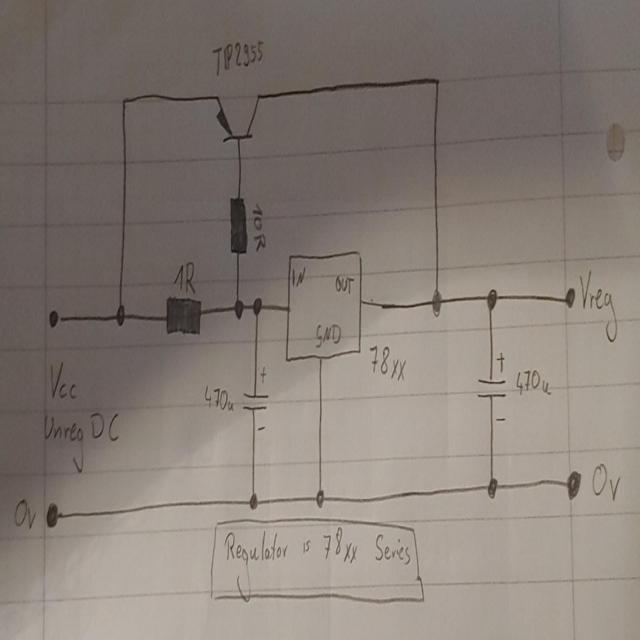capacitor: (476, 349, 507, 424), (240, 362, 270, 434)
junction: (428, 285, 444, 319), (484, 284, 500, 314), (484, 473, 500, 500), (114, 301, 126, 327), (251, 294, 263, 317), (233, 295, 244, 320), (314, 487, 325, 508), (248, 489, 258, 511), (432, 72, 442, 89), (120, 94, 128, 108)
resistor: (164, 294, 202, 338), (228, 192, 248, 256)
terminal: (564, 466, 582, 501), (44, 499, 61, 530), (48, 306, 64, 331), (562, 284, 576, 310)
text: (223, 524, 411, 606), (43, 409, 120, 473), (580, 263, 618, 347), (210, 36, 265, 74), (369, 342, 406, 383), (48, 358, 78, 401), (591, 462, 620, 504), (514, 366, 551, 397), (203, 383, 234, 415), (313, 320, 341, 349), (251, 200, 266, 253), (14, 496, 36, 530), (173, 259, 195, 292), (334, 272, 354, 294), (291, 266, 306, 288)
transistor: (213, 89, 261, 145)
